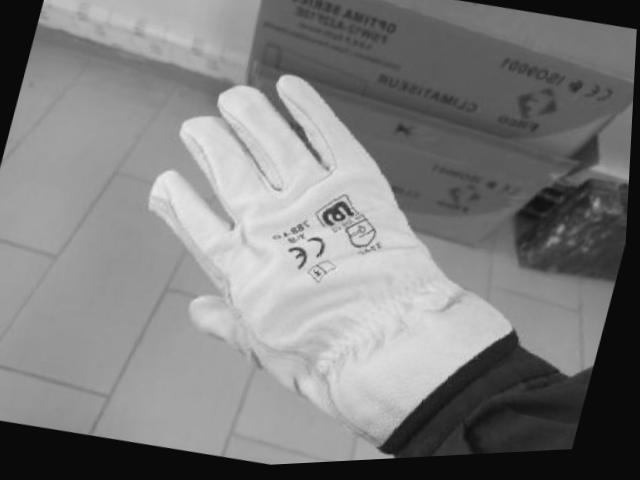Hand-in-Glove: (91, 44, 576, 476)
